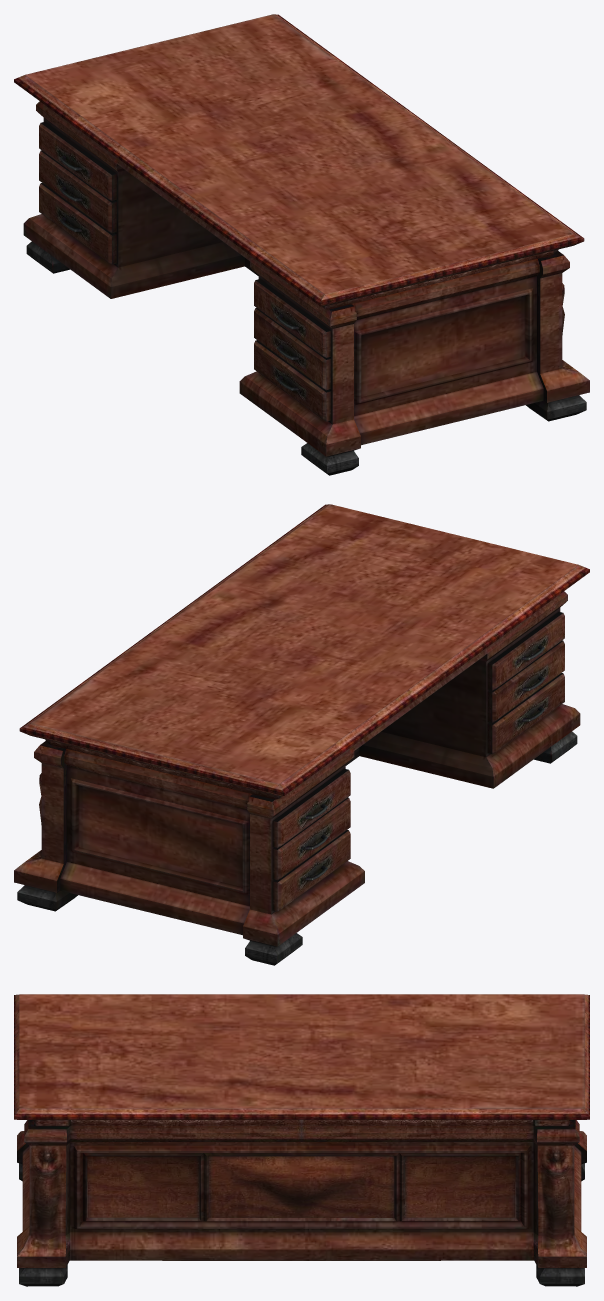
Rendered from breendesk.glb.
3 views of the same model, one above another, from view 1: azimuth 30°, elevation 25°; view 2: azimuth 150°, elevation 25°; view 3: azimuth 270°, elevation 25° (orthographic). The views are drawn at different scales.
Parts seen in each view (by area): view 1: 0_breendesk_sheet; view 2: 0_breendesk_sheet; view 3: 0_breendesk_sheet.
Boxes of the visible parts, x1,y1,x2,y2 form: 0_breendesk_sheet: (14,14,589,475); 0_breendesk_sheet: (14,504,589,965); 0_breendesk_sheet: (14,994,589,1286).
Size of the model in its own units: 1.21 by 0.787 by 2.35.
1 material, 1 textured.
